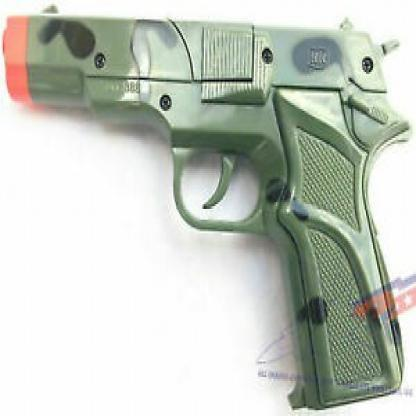Pistol: (18, 0, 413, 408)
